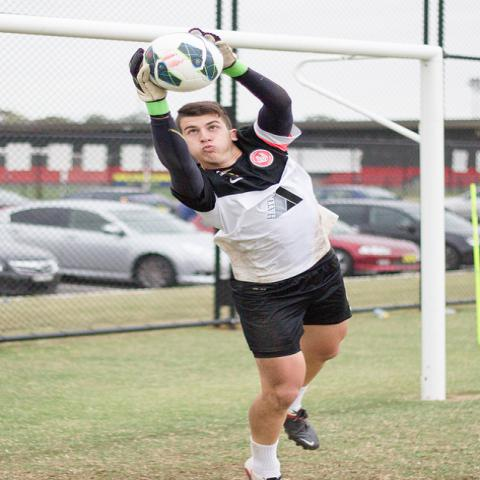car: (1, 200, 217, 287), (322, 200, 474, 270), (329, 218, 420, 276), (0, 258, 61, 296), (317, 181, 405, 202), (0, 190, 44, 217)
